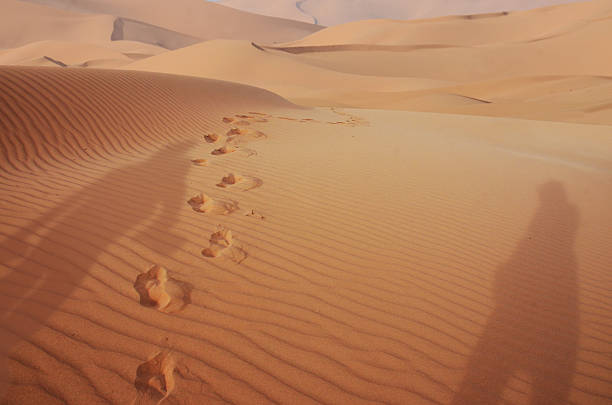human_foot_print: (133, 265, 192, 312), (134, 350, 175, 404), (201, 225, 247, 262), (187, 192, 238, 214), (217, 173, 262, 190), (211, 143, 256, 156), (191, 158, 209, 166)
